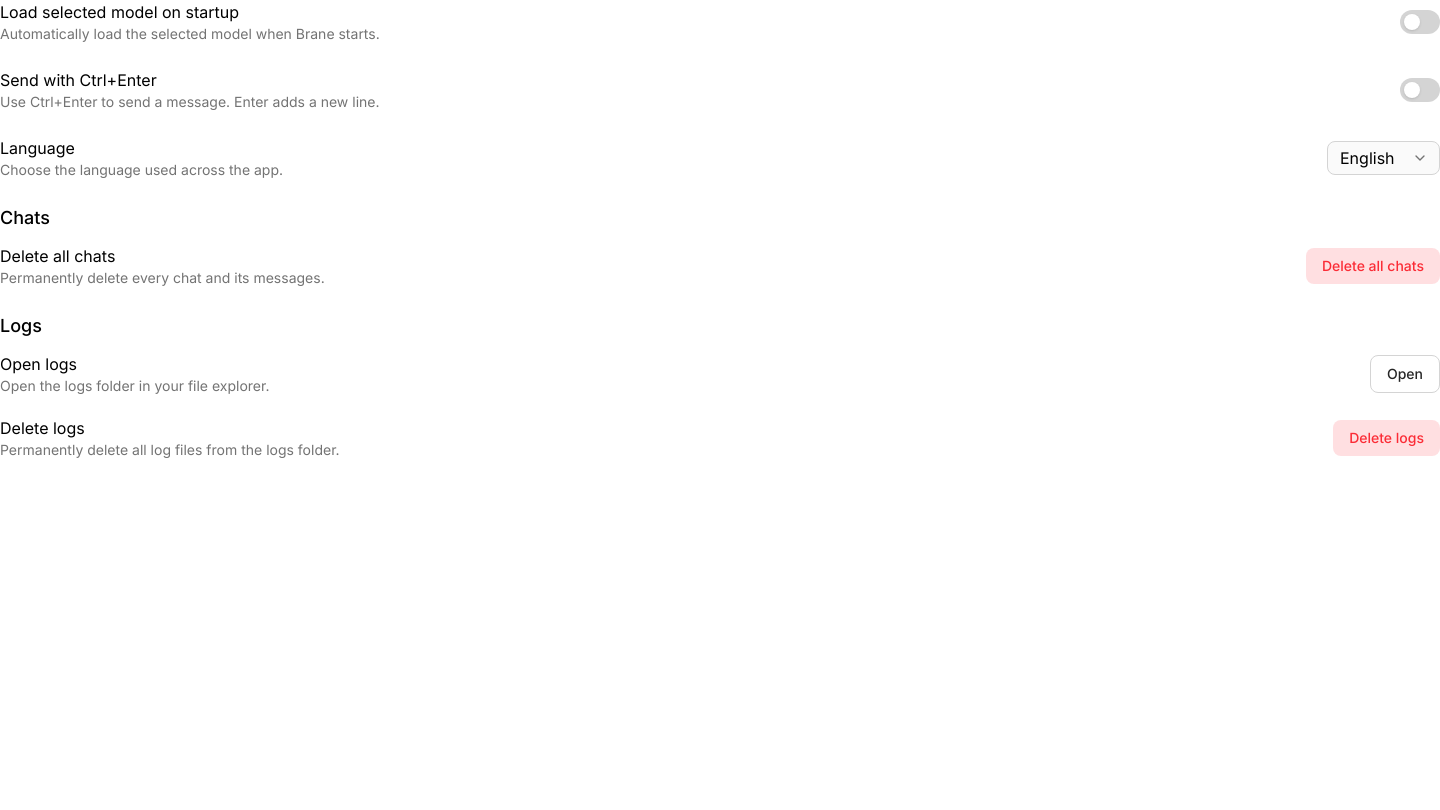
GeneralSettings logs › surfaces a failed delete without claiming it worked
Click the button "Delete logs" at (1387, 438), box x1=1333 y1=420 x2=1439 y2=456
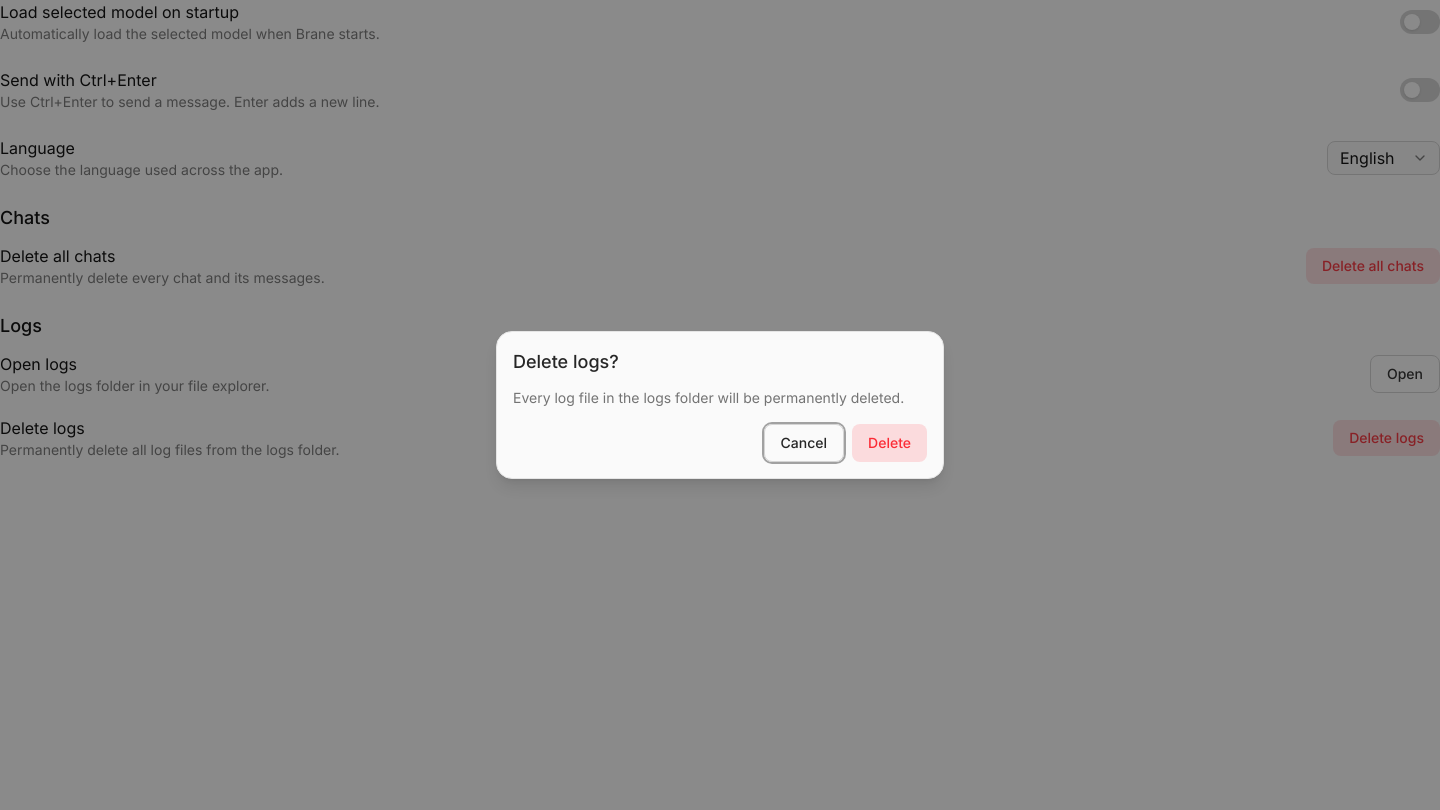
Click the button "Delete" at (890, 443), box x1=852 y1=424 x2=927 y2=462
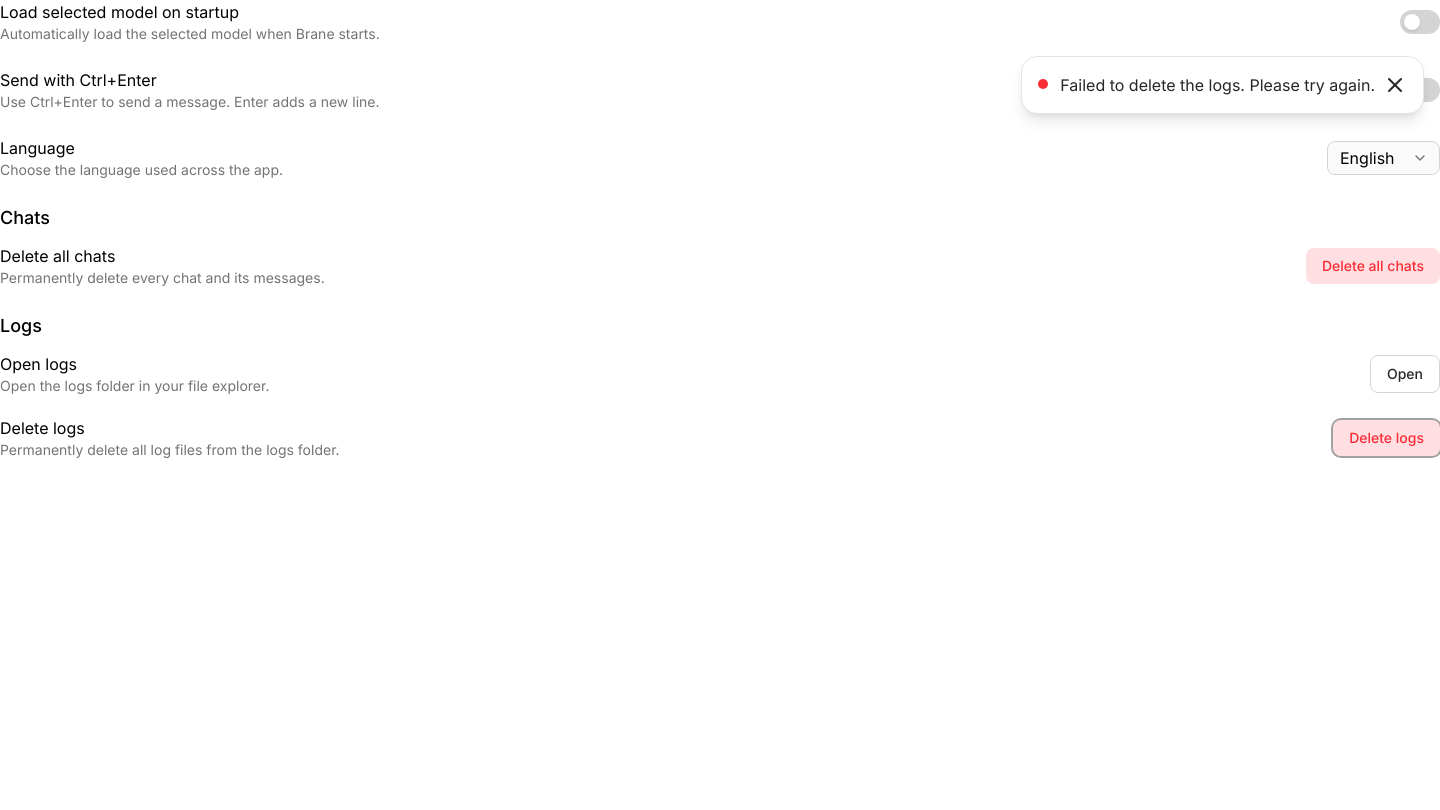
expect the message reads "Failed to delete the logs. Please try again.": met, box x1=1060 y1=75 x2=1375 y2=95
expect the text "deleted" is gone: met
